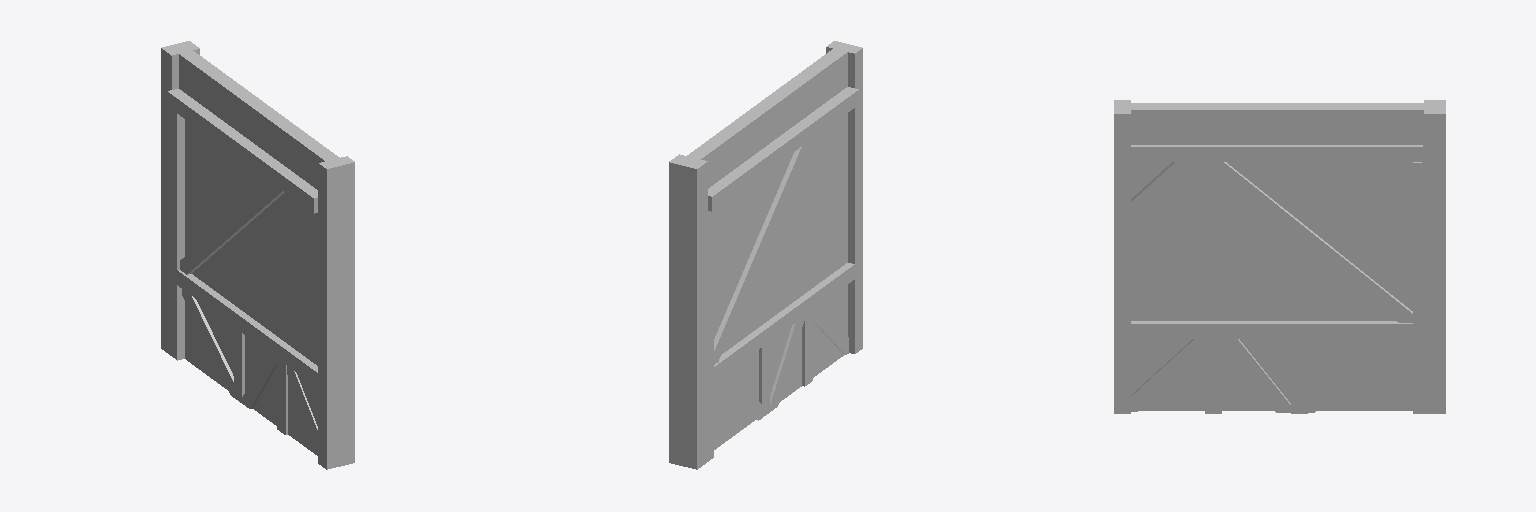
The model's file is Murito solito mi vida.obj.
3 views of the same model, side by side, from view 1: azimuth 30°, elevation 25°; view 2: azimuth 150°, elevation 25°; view 3: azimuth 270°, elevation 25° (orthographic).
Visible parts, largest first — view 1: Mesh1 Group1 Model, Mesh7 Group8 Group2 Model, Mesh11 Group12 Group2 Model, Mesh2 Group3 Group2 Model, Mesh6 Group7 Group2 Model, Mesh10 Group11 Group2 Model, Mesh9 Group10 Group2 Model, Mesh5 Group6 Group2 Model, Mesh4 Group5 Group2 Model, Mesh8 Group9 Group2 Model, Mesh3 Group4 Group2 Model; view 2: Mesh1 Group1 Model, Mesh11 Group12 Group2 Model, Mesh7 Group8 Group2 Model, Mesh2 Group3 Group2 Model, Mesh6 Group7 Group2 Model, Mesh10 Group11 Group2 Model, Mesh5 Group6 Group2 Model, Mesh9 Group10 Group2 Model, Mesh3 Group4 Group2 Model, Mesh4 Group5 Group2 Model, Mesh8 Group9 Group2 Model; view 3: Mesh1 Group1 Model, Mesh11 Group12 Group2 Model, Mesh7 Group8 Group2 Model, Mesh6 Group7 Group2 Model, Mesh2 Group3 Group2 Model, Mesh10 Group11 Group2 Model, Mesh9 Group10 Group2 Model, Mesh3 Group4 Group2 Model, Mesh5 Group6 Group2 Model, Mesh12 Group13 Model, Mesh4 Group5 Group2 Model, Mesh8 Group9 Group2 Model.
Boxes of the visible parts, x1,y1,x2,y2 form: Mesh1 Group1 Model: [179, 51, 339, 455]; Mesh7 Group8 Group2 Model: [318, 156, 354, 469]; Mesh11 Group12 Group2 Model: [161, 41, 199, 360]; Mesh2 Group3 Group2 Model: [167, 89, 317, 213]; Mesh6 Group7 Group2 Model: [177, 270, 317, 387]; Mesh10 Group11 Group2 Model: [180, 182, 284, 274]; Mesh9 Group10 Group2 Model: [182, 289, 233, 397]; Mesh5 Group6 Group2 Model: [242, 352, 276, 408]; Mesh4 Group5 Group2 Model: [277, 359, 287, 434]; Mesh8 Group9 Group2 Model: [234, 327, 244, 402]; Mesh3 Group4 Group2 Model: [287, 366, 317, 450]; Mesh1 Group1 Model: [687, 49, 847, 449]; Mesh11 Group12 Group2 Model: [669, 154, 713, 469]; Mesh7 Group8 Group2 Model: [826, 41, 862, 353]; Mesh2 Group3 Group2 Model: [708, 87, 858, 211]; Mesh6 Group7 Group2 Model: [714, 263, 854, 381]; Mesh10 Group11 Group2 Model: [714, 138, 813, 364]; Mesh5 Group6 Group2 Model: [770, 316, 804, 411]; Mesh9 Group10 Group2 Model: [714, 379, 761, 420]; Mesh3 Group4 Group2 Model: [813, 306, 848, 354]; Mesh4 Group5 Group2 Model: [802, 310, 812, 386]; Mesh8 Group9 Group2 Model: [759, 342, 769, 417]; Mesh1 Group1 Model: [1131, 103, 1423, 410]; Mesh11 Group12 Group2 Model: [1413, 100, 1445, 413]; Mesh7 Group8 Group2 Model: [1114, 100, 1130, 413]; Mesh6 Group7 Group2 Model: [1131, 321, 1412, 338]; Mesh2 Group3 Group2 Model: [1131, 145, 1422, 161]; Mesh10 Group11 Group2 Model: [1199, 162, 1412, 322]; Mesh9 Group10 Group2 Model: [1308, 339, 1412, 412]; Mesh3 Group4 Group2 Model: [1131, 339, 1204, 411]; Mesh5 Group6 Group2 Model: [1222, 339, 1290, 412]; Mesh12 Group13 Model: [1131, 162, 1197, 222]; Mesh4 Group5 Group2 Model: [1205, 339, 1221, 413]; Mesh8 Group9 Group2 Model: [1291, 339, 1307, 413].
Size of the model in its own units: 0.23 by 2 by 2.